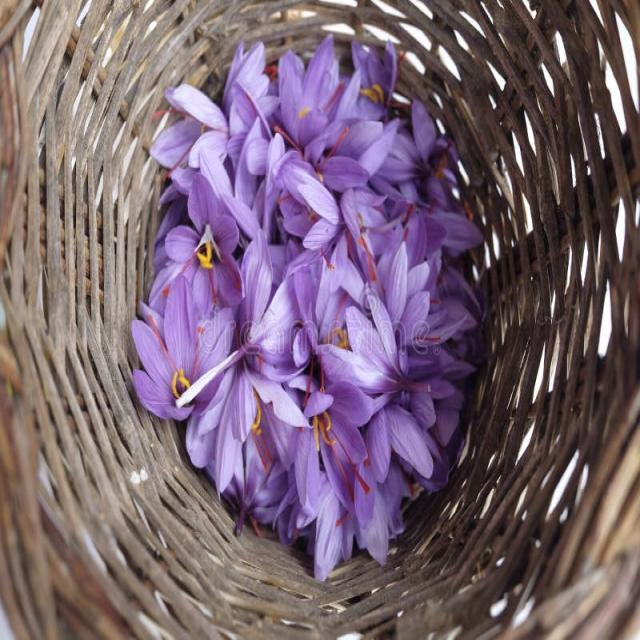Flower: (127, 43, 496, 591)
stigma: (306, 418, 368, 498)
